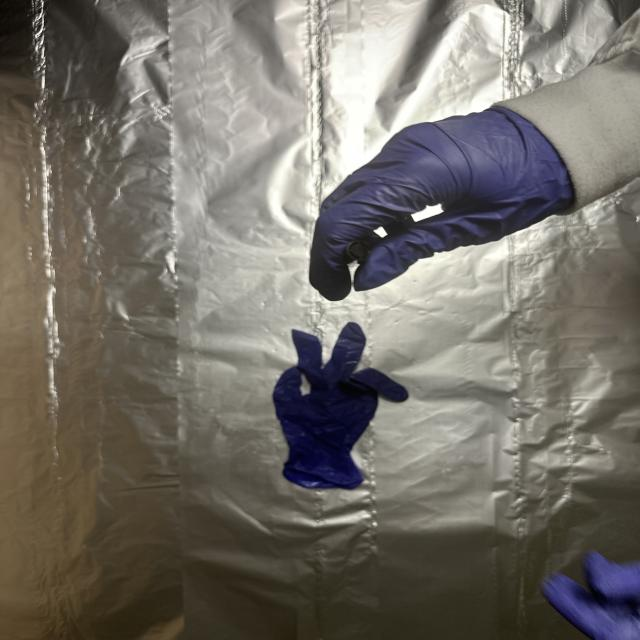gloves_contaminated: (310, 108, 573, 300)
